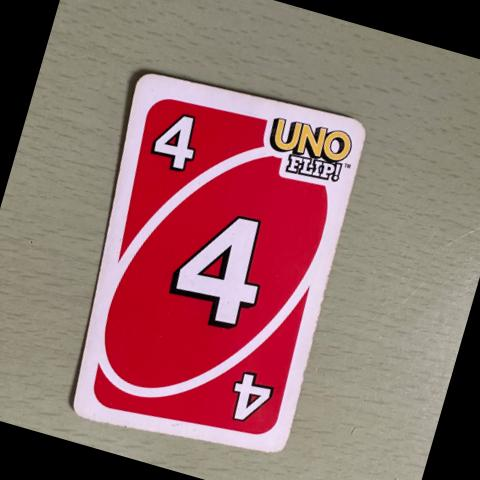lred-4: (123, 87, 228, 199)
